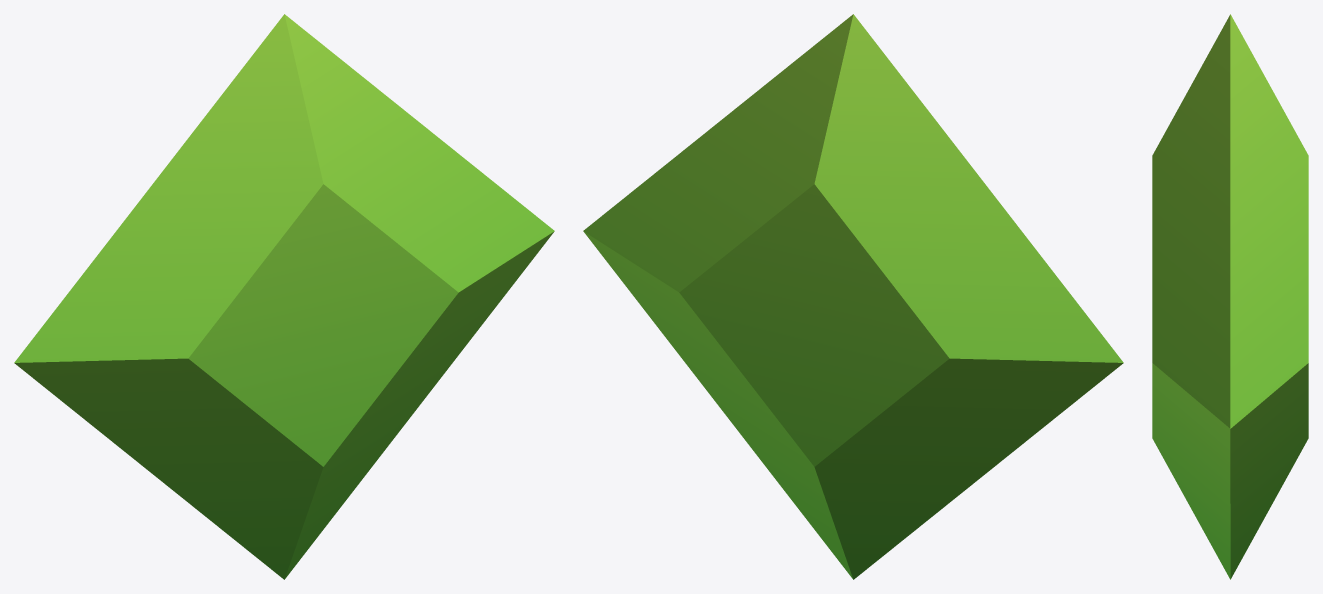
The model's file is Gem7.fbx.
The picture shows the model from 3 angles, left to right: view 1: azimuth 30°, elevation 25°; view 2: azimuth 150°, elevation 25°; view 3: azimuth 270°, elevation 25°; orthographic projection.
Parts seen in each view (by area): view 1: Gem7; view 2: Gem7; view 3: Gem7.
Part boxes in pixels (x1,y1,x2,y2): Gem7: (14,14,554,579); Gem7: (583,14,1123,579); Gem7: (1152,14,1308,579).
Size of the model in its own units: 0.5 by 0.5 by 0.125.
